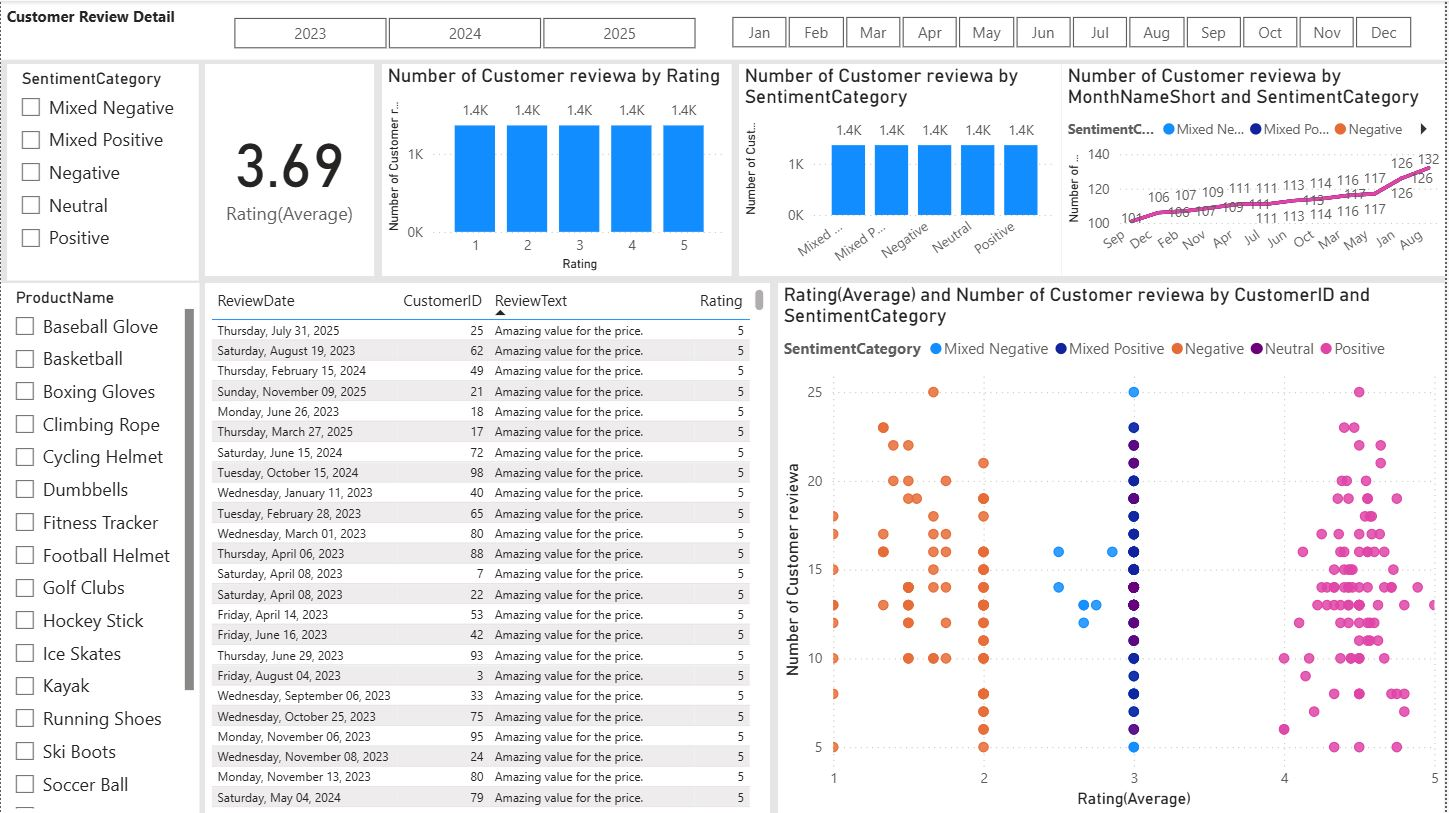

This screenshot's page, from the dashboard's own definition file:
{"tool":"powerbi","page":{"name":"Customer Review Details","canvas":[1280,720],"ordinal":3},"visuals":[{"type":"textbox","box":[0,0,1280,52.3],"z":0},{"type":"slicer","fields":{"Values":["dm_products.ProductName"]},"box":[0,250,175.6,470.8],"z":1000},{"type":"slicer","fields":{"Values":["Calendar.Year"]},"box":[180.9,8,459.3,36.4],"z":2000},{"type":"slicer","fields":{"Values":["Calendar.MonthNameShort"]},"box":[622.5,7.1,651.7,37.2],"z":3000},{"type":"card","fields":{"Values":["_Calculations.Rating(Average)"]},"box":[180.9,55.9,149.9,188],"z":4000},{"type":"clusteredColumnChart","fields":{"Y":["_Calculations.Number of Customer reviewa"],"Category":["fact_customer_reviews_with_sentiment.Rating"]},"box":[337.8,55.9,310.3,188],"z":5000},{"type":"clusteredColumnChart","fields":{"Y":["_Calculations.Number of Customer reviewa"],"Category":["fact_customer_reviews_with_sentiment.SentimentCategory"]},"box":[654.4,55.9,286.4,188],"z":6000},{"type":"lineChart","fields":{"Y":["_Calculations.Number of Customer reviewa"],"Category":["Calendar.MonthNameShort"],"Series":["fact_customer_reviews_with_sentiment.SentimentCategory"]},"box":[940.8,55.9,339.6,188],"z":7000},{"type":"tableEx","fields":{"Values":["fact_customer_reviews_with_sentiment.ReviewDate","fact_customer_reviews_with_sentiment.CustomerID","fact_customer_reviews_with_sentiment.ReviewText","fact_customer_reviews_with_sentiment.Rating"]},"box":[180.9,250,501,470.8],"z":8000},{"type":"scatterChart","fields":{"X":["_Calculations.Rating(Average)"],"Y":["_Calculations.Number of Customer reviewa"],"Category":["dm_customers.CustomerID"],"Series":["fact_customer_reviews_with_sentiment.SentimentCategory"]},"box":[689,250,591.4,470.8],"z":9000},{"type":"slicer","fields":{"Values":["fact_customer_reviews_with_sentiment.SentimentCategory"]},"box":[5.3,55.9,170.2,191.5],"z":10000}]}

Visuals, with their boxes in screenshot pixels (x1, y1, x2, y2), scaled from the page's 1280x720 canvas onto the 1449x813 screenshot:
textbox: rect(0, 0, 1448, 59)
slicer - dm_products.ProductName: rect(0, 282, 199, 812)
slicer - Calendar.Year: rect(205, 9, 725, 50)
slicer - Calendar.MonthNameShort: rect(705, 8, 1442, 50)
card - _Calculations.Rating(Average): rect(205, 63, 374, 275)
clusteredColumnChart - _Calculations.Number of Customer reviewa x fact_customer_reviews_with_sentiment.Rating: rect(382, 63, 734, 275)
clusteredColumnChart - _Calculations.Number of Customer reviewa x fact_customer_reviews_with_sentiment.SentimentCategory: rect(741, 63, 1065, 275)
lineChart - _Calculations.Number of Customer reviewa x Calendar.MonthNameShort: rect(1065, 63, 1448, 275)
tableEx - fact_customer_reviews_with_sentiment.ReviewDate x fact_customer_reviews_with_sentiment.CustomerID: rect(205, 282, 772, 812)
scatterChart - _Calculations.Rating(Average) x _Calculations.Number of Customer reviewa: rect(780, 282, 1448, 812)
slicer - fact_customer_reviews_with_sentiment.SentimentCategory: rect(6, 63, 199, 279)
